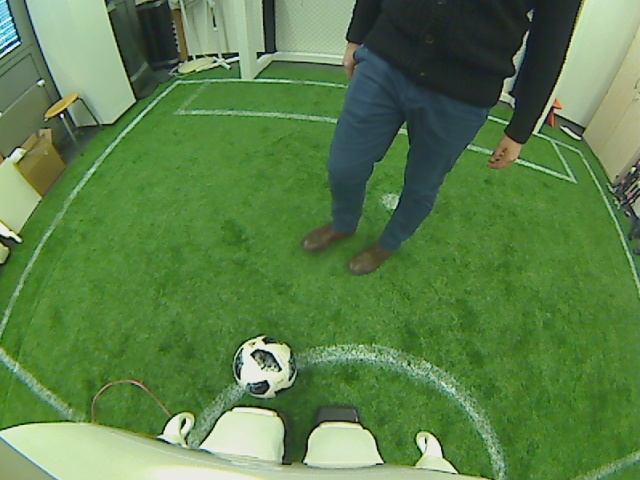ball: (230, 335, 299, 397)
